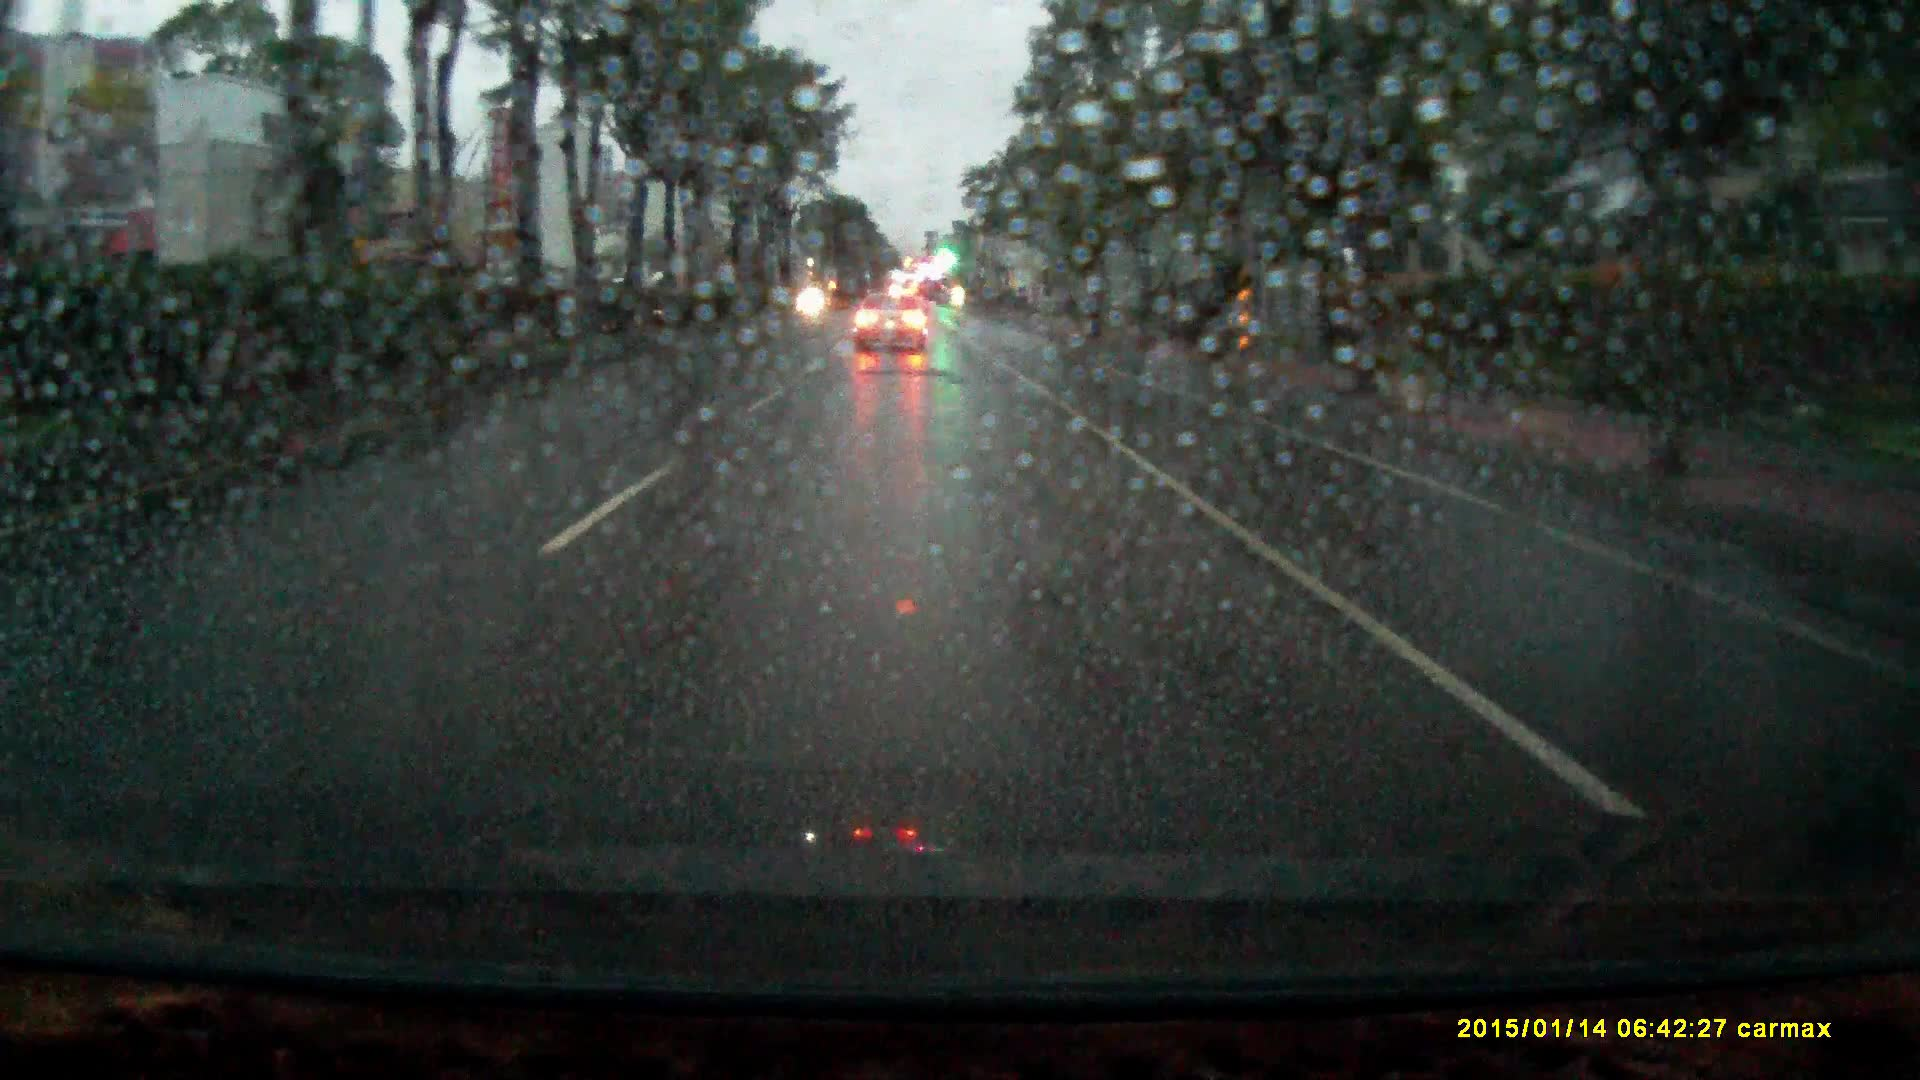vehicle: (852, 294, 932, 360)
